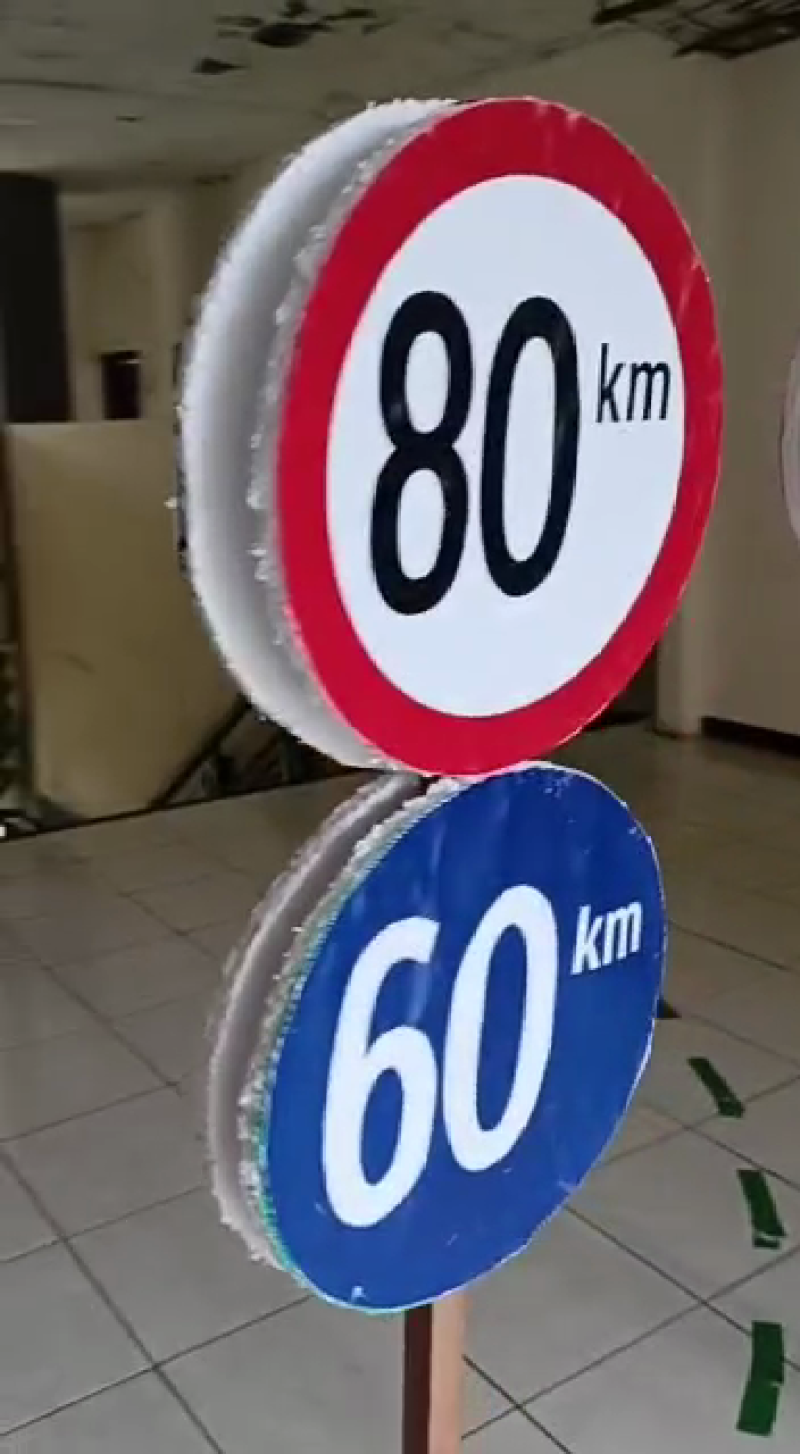batas maksimal 80kmperjam minimal 60kmperjam: (231, 95, 727, 1315)
